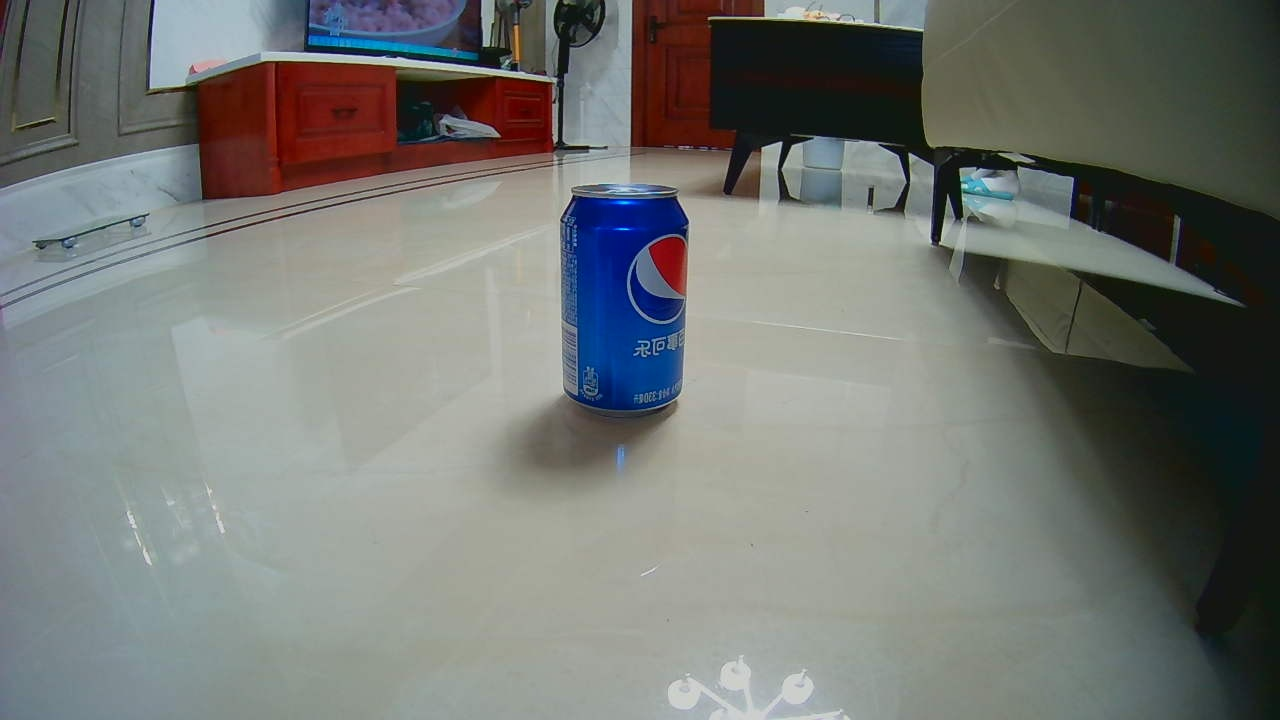pessi: (555, 181, 684, 416)
